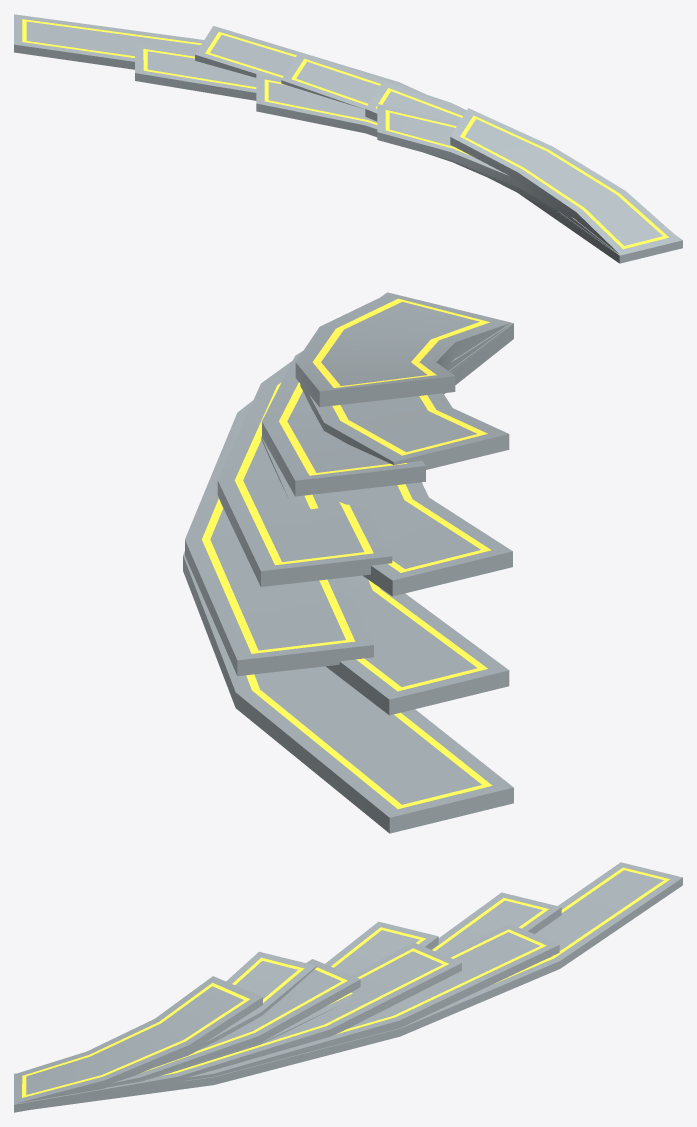
The model's file is SM_PlatformUpwardsBigger.fbx.
3 renders of one model, top to bottom at view 1: azimuth 30°, elevation 25°; view 2: azimuth 150°, elevation 25°; view 3: azimuth 270°, elevation 25°, orthographic. The views are drawn at different scales.
Parts seen in each view (by area): view 1: SM_PlatformUpwards45Degree_Bigger3, SM_PlatformUpwards60Degree_Bigger, SM_PlatformUpwards60Degree_Bigger3, SM_PlatformUpwards60Degree_Bigger2, SM_PlatformUpwards45Degree_Bigger, SM_PlatformUpwards60Degree_Bigger1, SM_PlatformUpwards45Degree_Bigger1, SM_PlatformUpwards45Degree_Bigger2; view 2: SM_PlatformUpwards60Degree_Bigger, SM_PlatformUpwards45Degree_Bigger, SM_PlatformUpwards45Degree_Bigger1, SM_PlatformUpwards45Degree_Bigger3, SM_PlatformUpwards60Degree_Bigger1, SM_PlatformUpwards60Degree_Bigger2, SM_PlatformUpwards60Degree_Bigger3, SM_PlatformUpwards45Degree_Bigger2; view 3: SM_PlatformUpwards60Degree_Bigger, SM_PlatformUpwards45Degree_Bigger3, SM_PlatformUpwards45Degree_Bigger1, SM_PlatformUpwards45Degree_Bigger, SM_PlatformUpwards45Degree_Bigger2, SM_PlatformUpwards60Degree_Bigger1, SM_PlatformUpwards60Degree_Bigger2, SM_PlatformUpwards60Degree_Bigger3.
Part boxes in pixels (<box>): SM_PlatformUpwards45Degree_Bigger3: <box>450,108,681,255</box>; SM_PlatformUpwards60Degree_Bigger: <box>14,14,655,263</box>; SM_PlatformUpwards60Degree_Bigger3: <box>377,104,679,261</box>; SM_PlatformUpwards60Degree_Bigger2: <box>256,74,620,255</box>; SM_PlatformUpwards45Degree_Bigger: <box>195,26,680,263</box>; SM_PlatformUpwards60Degree_Bigger1: <box>135,44,681,258</box>; SM_PlatformUpwards45Degree_Bigger1: <box>281,52,682,261</box>; SM_PlatformUpwards45Degree_Bigger2: <box>365,81,465,122</box>; SM_PlatformUpwards60Degree_Bigger: <box>183,323,513,833</box>; SM_PlatformUpwards45Degree_Bigger: <box>185,323,513,676</box>; SM_PlatformUpwards45Degree_Bigger1: <box>217,292,392,586</box>; SM_PlatformUpwards45Degree_Bigger3: <box>295,293,510,407</box>; SM_PlatformUpwards60Degree_Bigger1: <box>326,575,509,715</box>; SM_PlatformUpwards60Degree_Bigger2: <box>261,322,512,596</box>; SM_PlatformUpwards60Degree_Bigger3: <box>300,322,509,469</box>; SM_PlatformUpwards45Degree_Bigger2: <box>262,351,425,496</box>; SM_PlatformUpwards60Degree_Bigger: <box>33,862,682,1109</box>; SM_PlatformUpwards45Degree_Bigger3: <box>14,976,262,1103</box>; SM_PlatformUpwards45Degree_Bigger1: <box>14,942,461,1112</box>; SM_PlatformUpwards45Degree_Bigger: <box>14,923,559,1080</box>; SM_PlatformUpwards45Degree_Bigger2: <box>111,959,360,1085</box>; SM_PlatformUpwards60Degree_Bigger1: <box>50,892,561,1106</box>; SM_PlatformUpwards60Degree_Bigger2: <box>14,921,438,1087</box>; SM_PlatformUpwards60Degree_Bigger3: <box>153,951,316,1067</box>.
Size of the model in its own units: 6.04 by 1.12 by 9.55.
